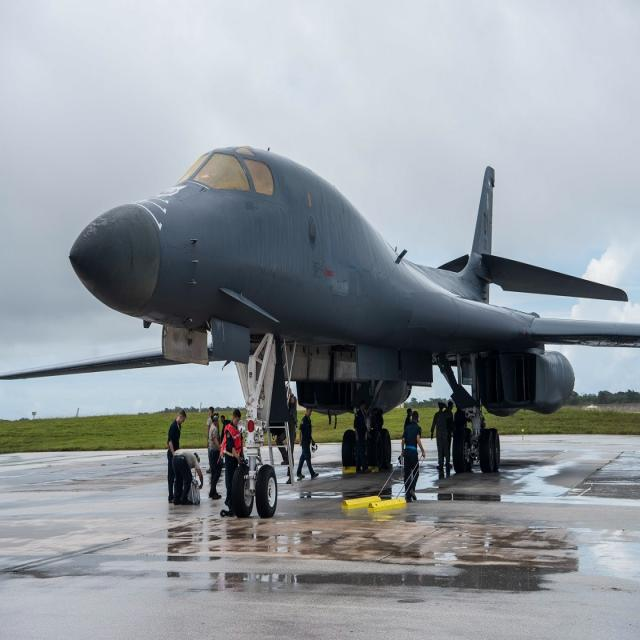B1: (0, 82, 640, 558)
